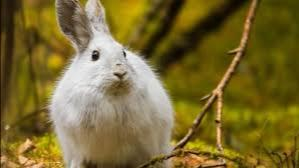Non_Gorille: (43, 3, 175, 164)
